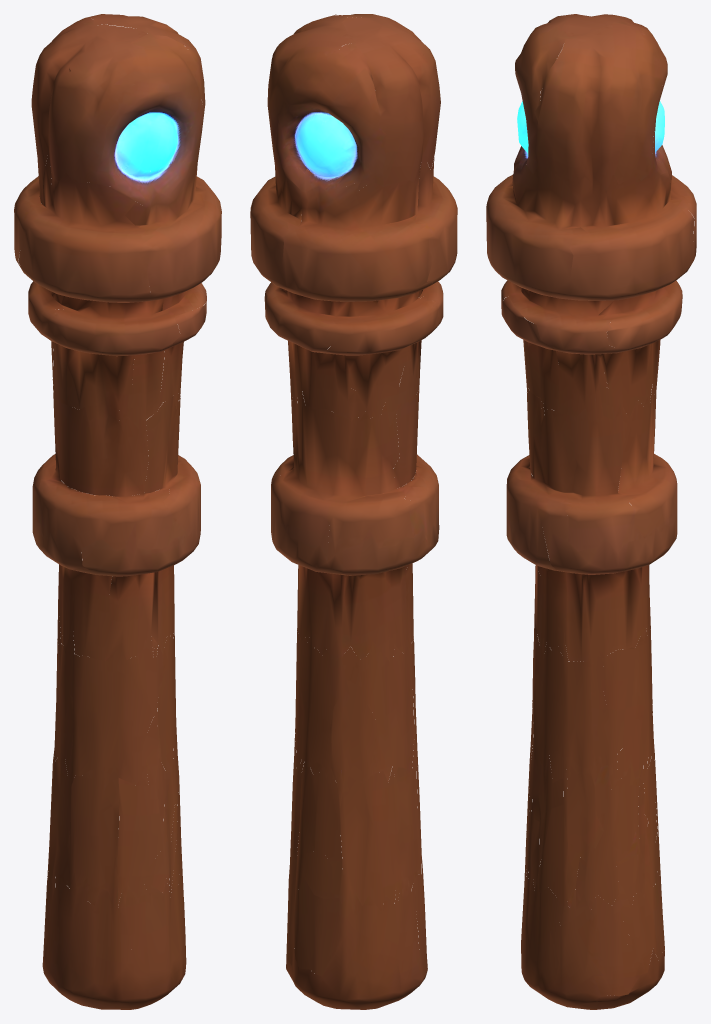
File: Arm_wand-BmlmL7VU.glb
3 renders of one model, left to right at view 1: azimuth 30°, elevation 25°; view 2: azimuth 150°, elevation 25°; view 3: azimuth 270°, elevation 25°, orthographic.
Visible parts, largest first — view 1: Arm_wand; view 2: Arm_wand; view 3: Arm_wand.
Boxes of the visible parts, <box> form: Arm_wand: <box>14,14,221,1009</box>; Arm_wand: <box>250,14,457,1009</box>; Arm_wand: <box>486,14,696,1009</box>.
Size of the model in its own units: 0.195 by 1 by 0.1975.
Materials: 1 (1 with a texture image).
